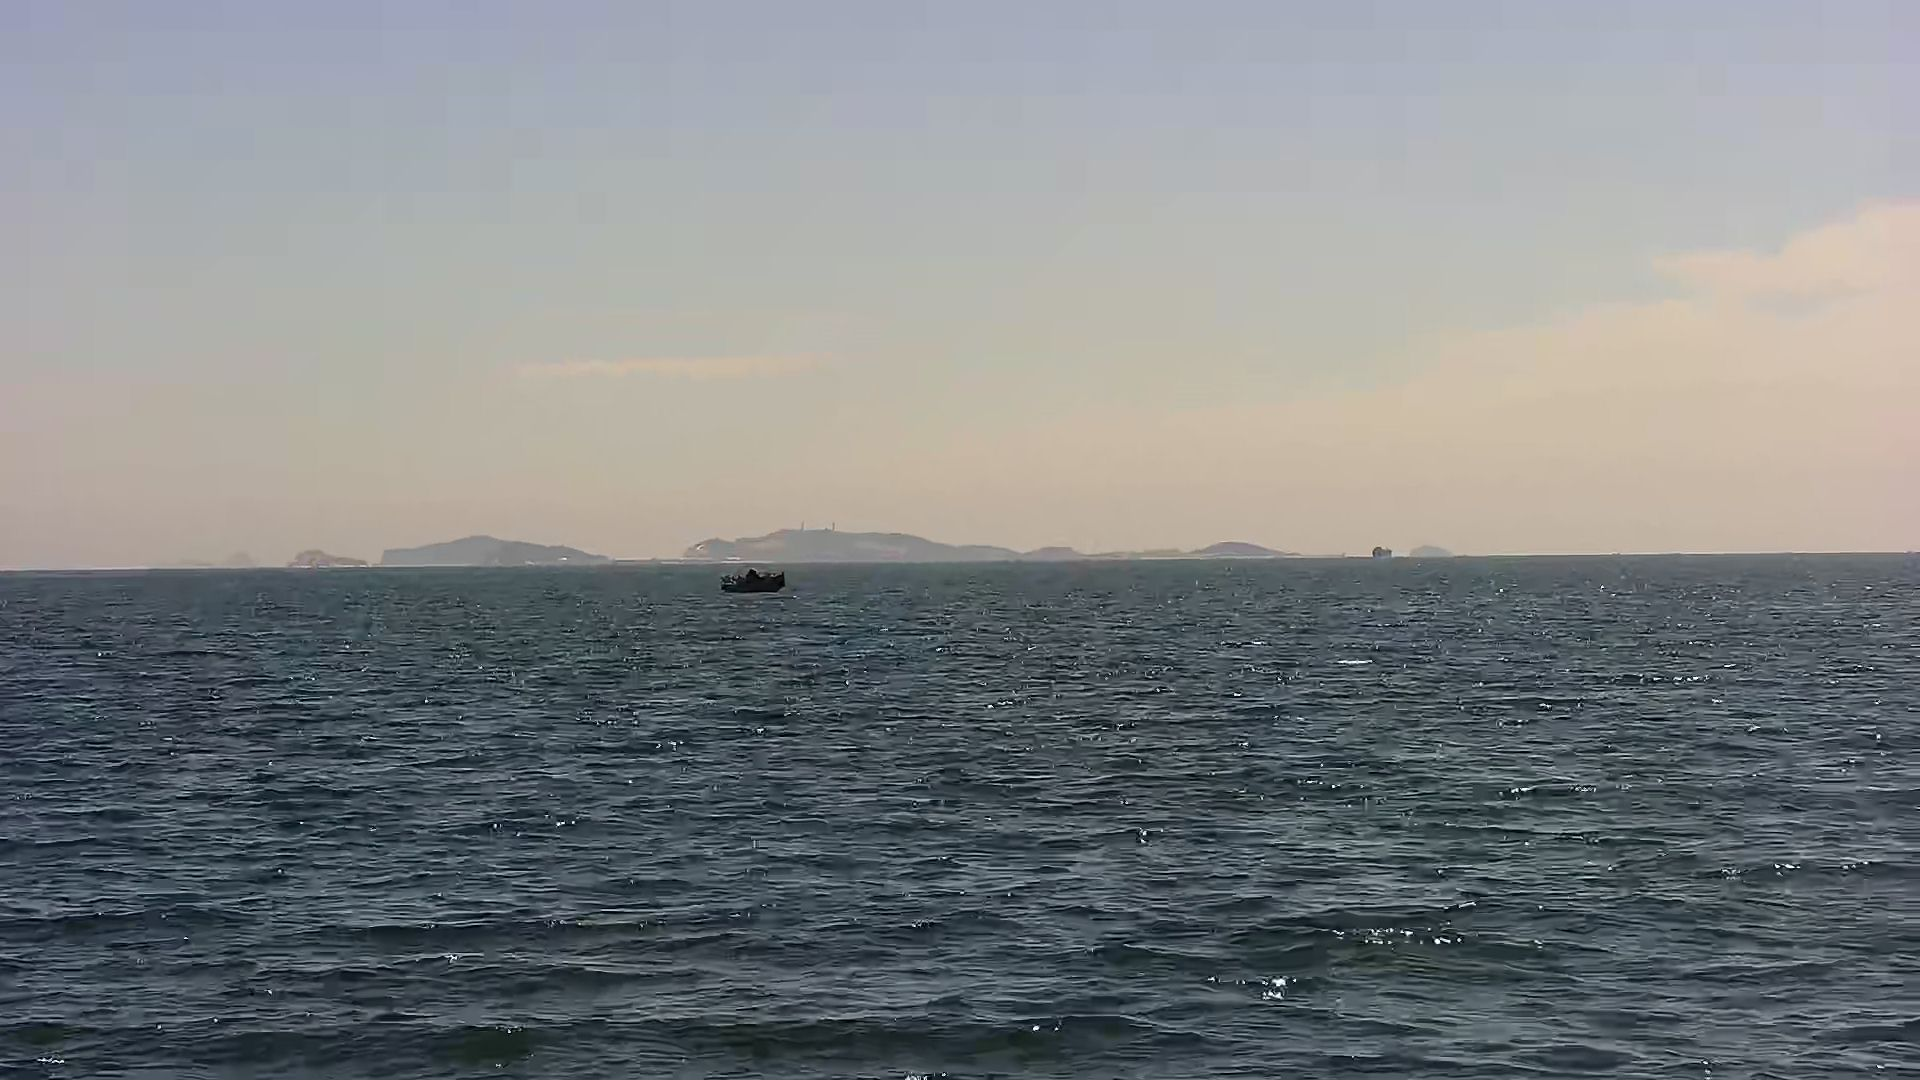boat: (719, 564, 793, 599)
rock: (682, 520, 1352, 563), (380, 537, 632, 574), (294, 541, 373, 568), (1410, 534, 1460, 564)
